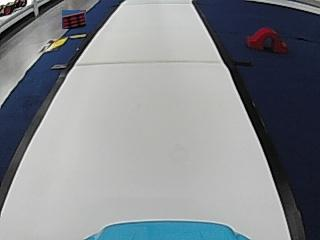bridge: (246, 26, 286, 51)
